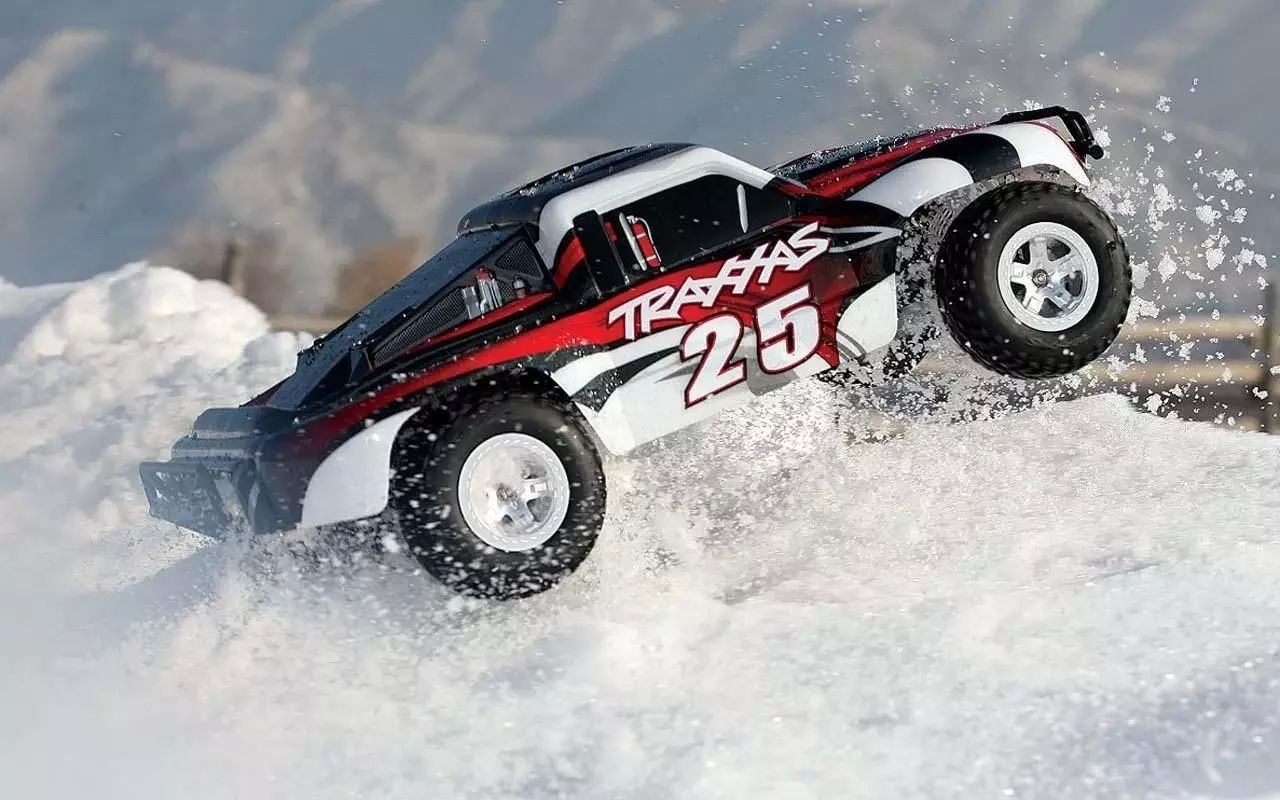racing car: (147, 99, 1129, 620)
